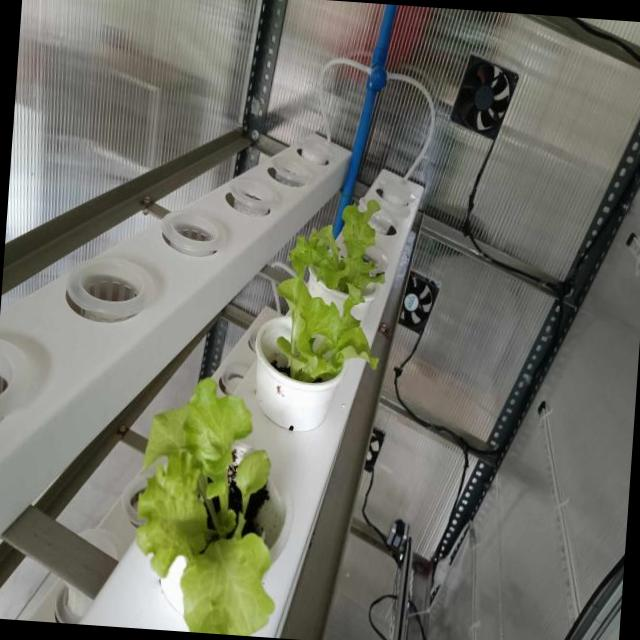Lettuce-Not-Ready-to-Harvest: (118, 368, 299, 638), (257, 269, 388, 389), (280, 188, 391, 298)
